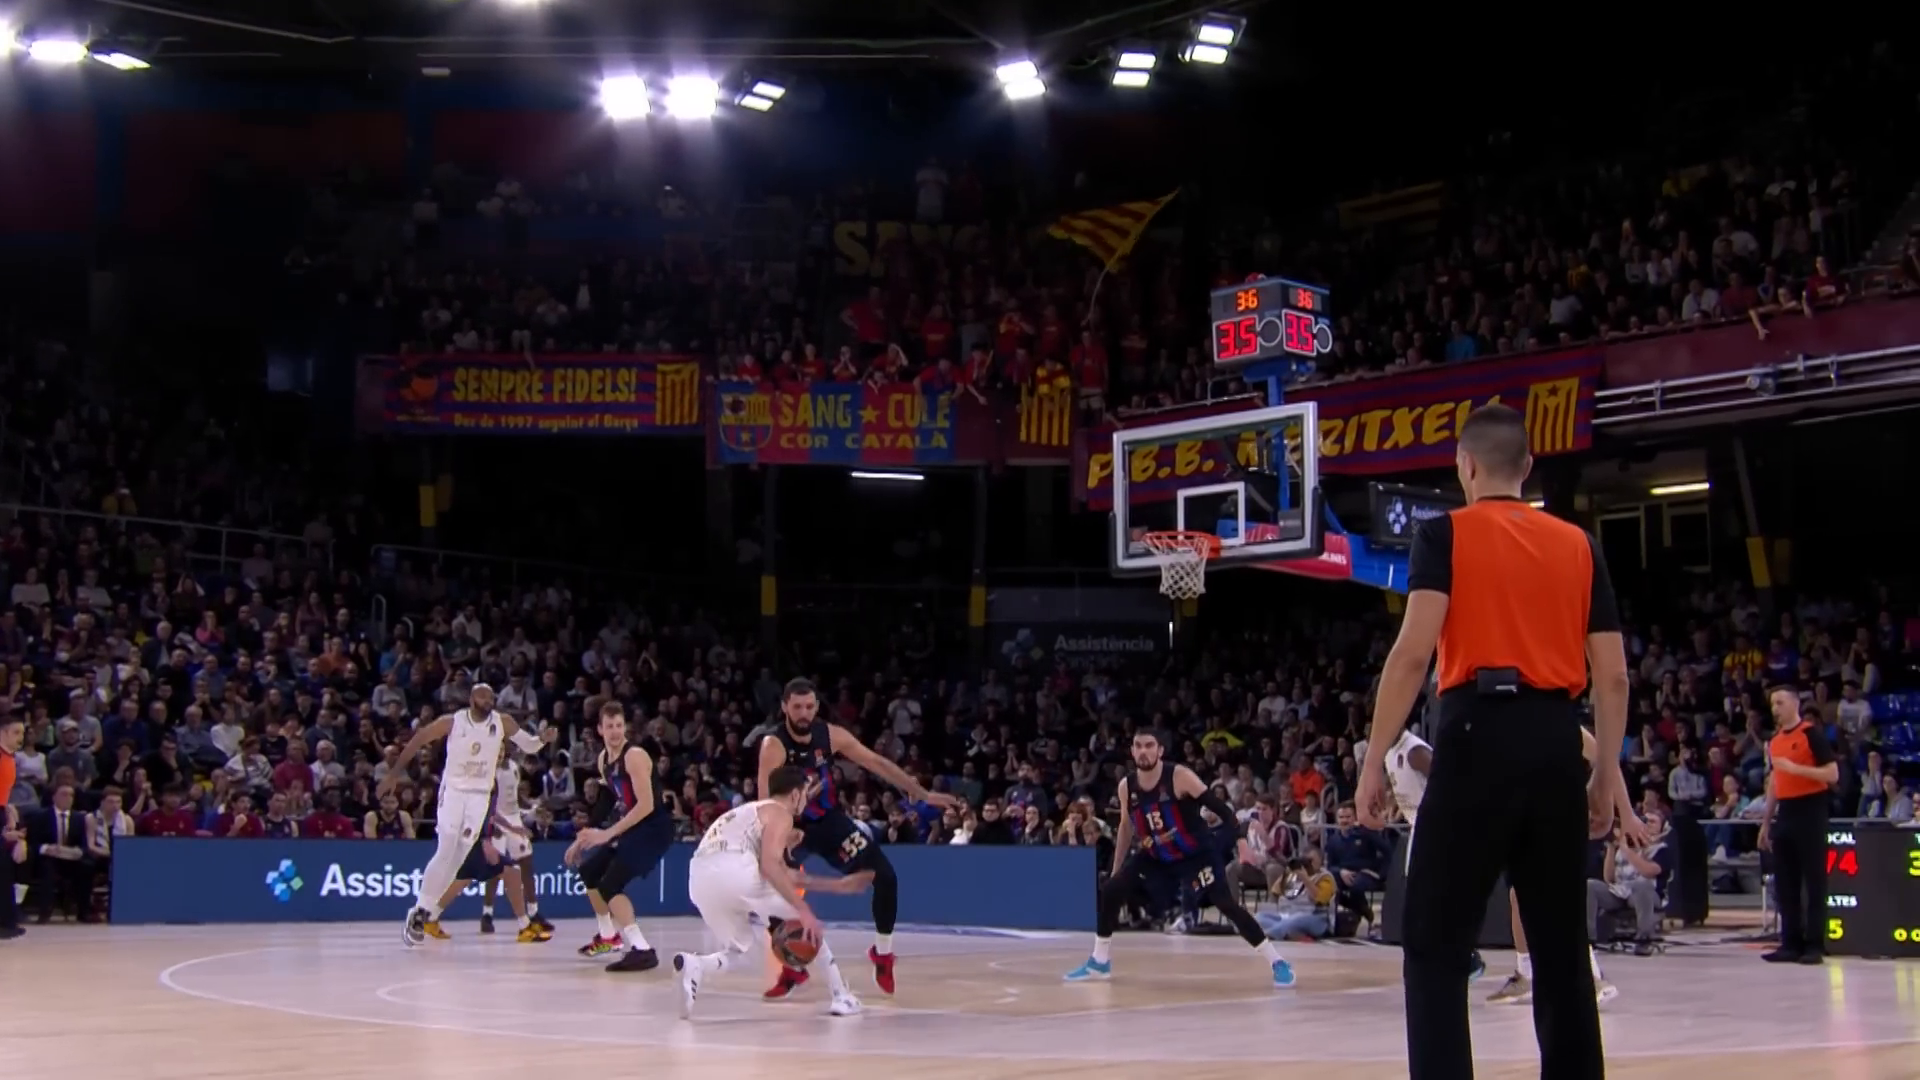ball: (767, 915, 825, 969)
net: (1139, 527, 1216, 604)
